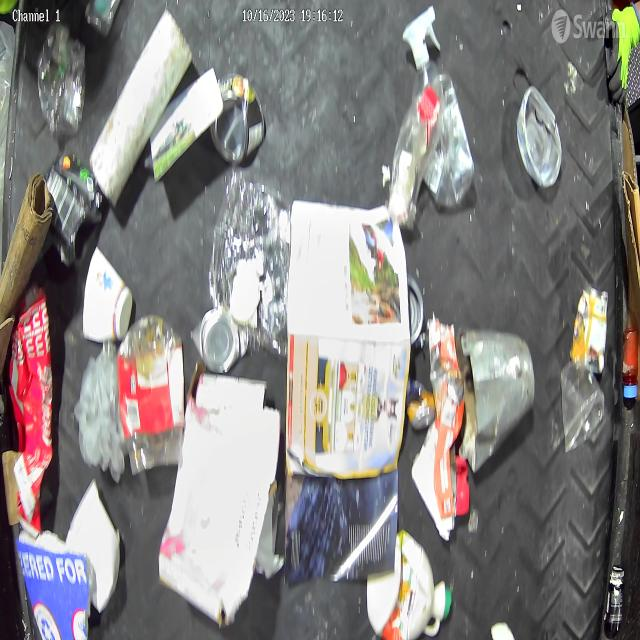can: (514, 84, 564, 190), (213, 73, 267, 168), (569, 283, 609, 376), (191, 306, 237, 372), (402, 271, 424, 347), (406, 378, 436, 432)
milk_jug: (366, 530, 453, 640)
plastic_bottle: (388, 59, 446, 232)
